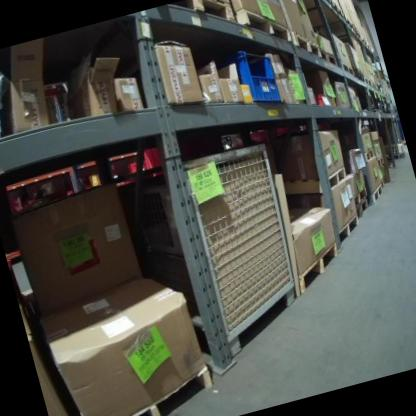pallet: (85, 361, 222, 416), (227, 0, 296, 62), (287, 237, 348, 297), (159, 0, 238, 41), (284, 165, 349, 204), (285, 25, 328, 70), (331, 208, 366, 251), (318, 42, 340, 74), (337, 57, 359, 85), (351, 195, 372, 219), (364, 184, 386, 206), (349, 186, 370, 206), (359, 147, 377, 163), (363, 72, 373, 90), (375, 154, 386, 166)
small_load_carrier: (231, 40, 281, 110), (314, 89, 331, 109)
stillage: (110, 133, 317, 378)
